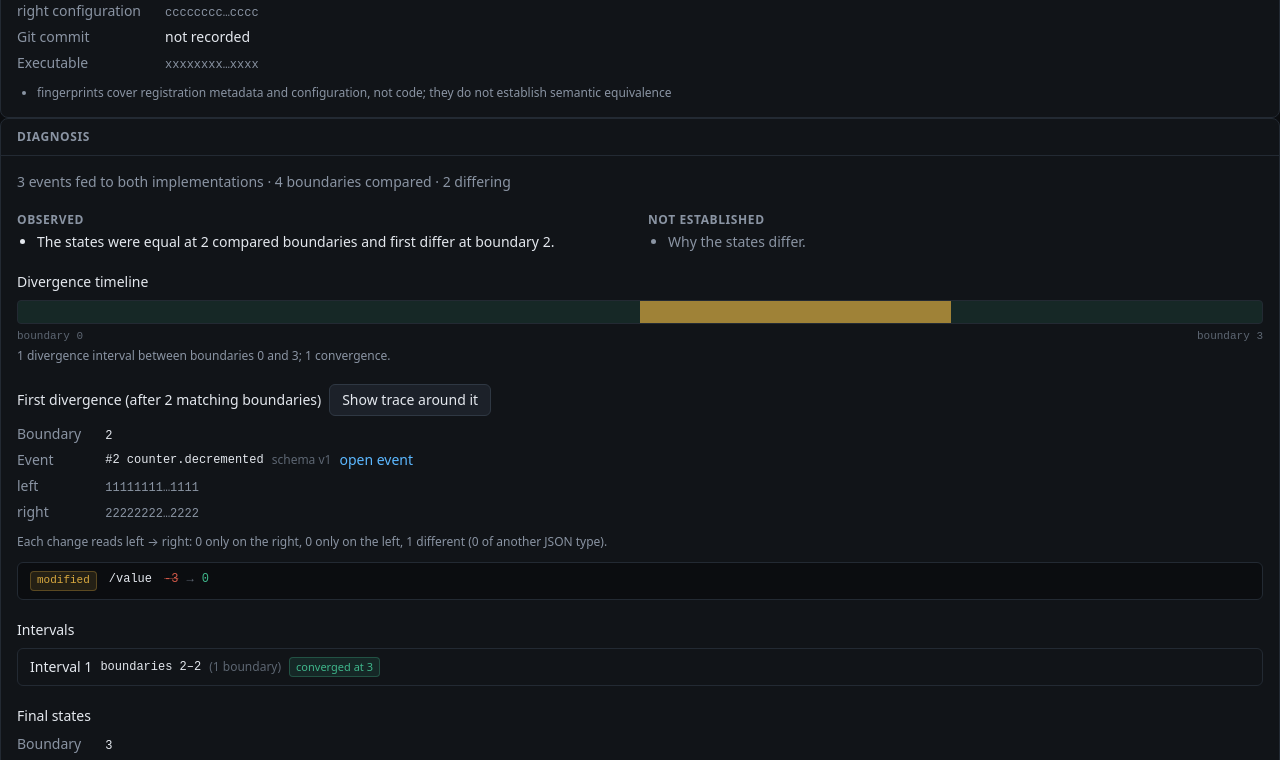
Test: Sprint 8 diagnostics › loads the trace around the first divergence from the API
The image size is (1280, 760).
(page scrolled)
Click the button "Show trace around it" at (410, 400), box 329,384 -> 491,416
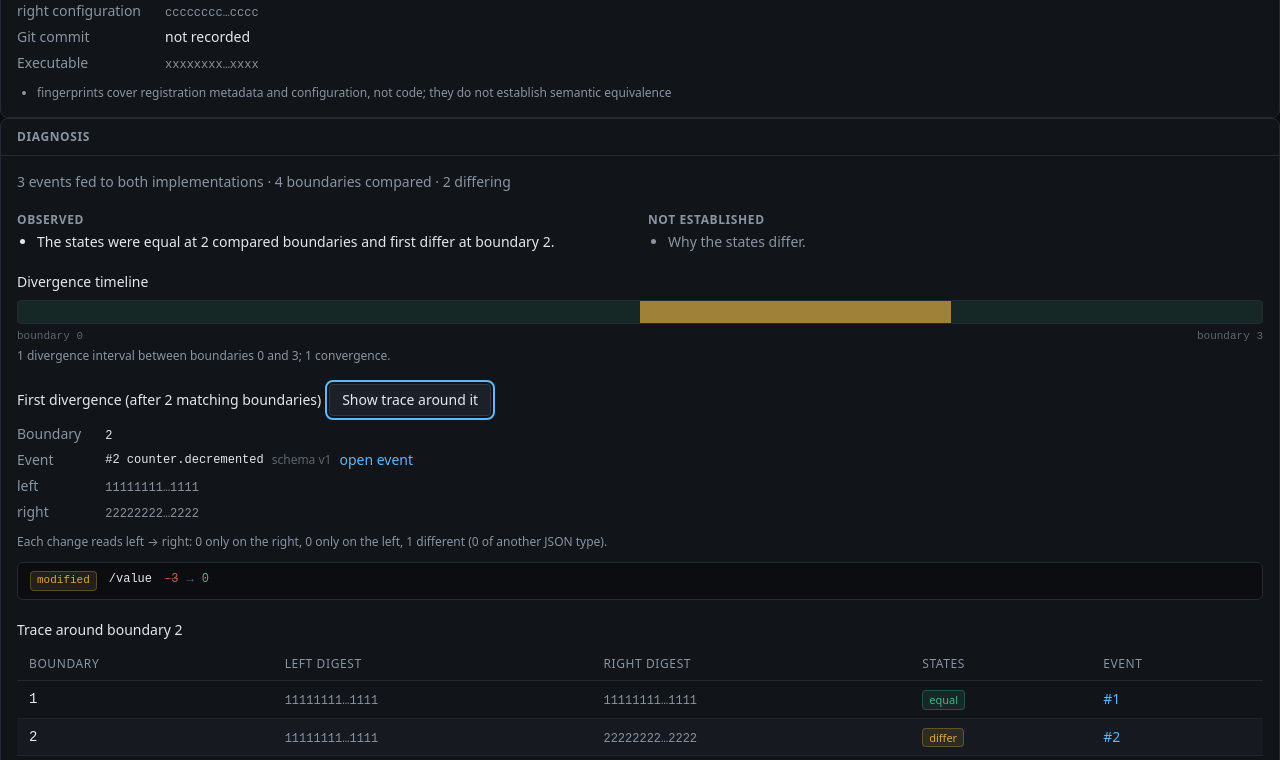
Check: the text "differ" is shown, box 922,728 -> 964,747
Check: the text "equal" is shown, box 922,690 -> 965,710
